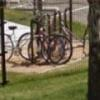bicycles: (18, 16, 72, 66), (0, 16, 42, 65)
